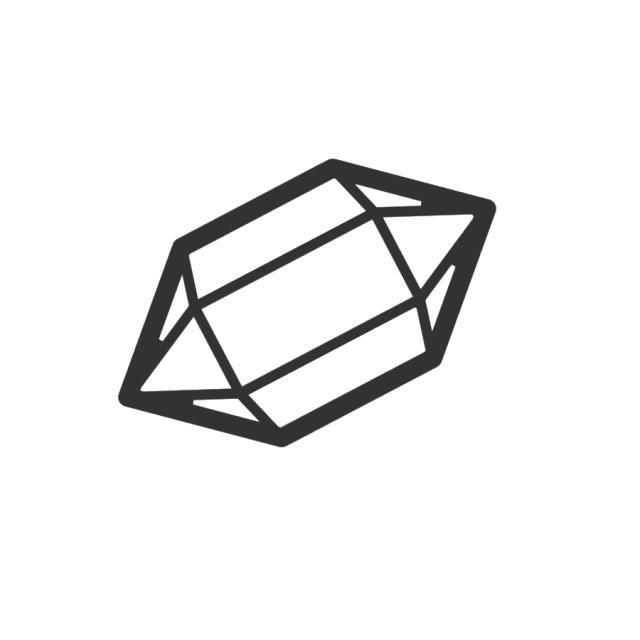crystal: (112, 152, 505, 459)
